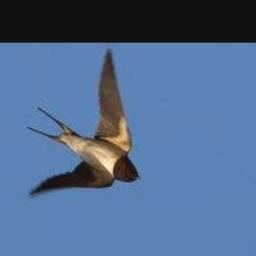Swallow: (26, 47, 139, 198)
